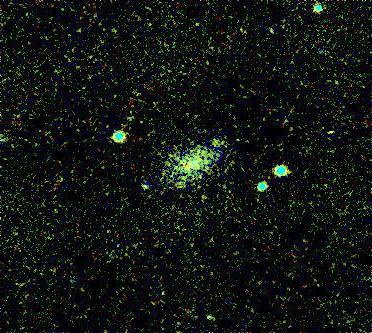star: (206, 128, 236, 158)
